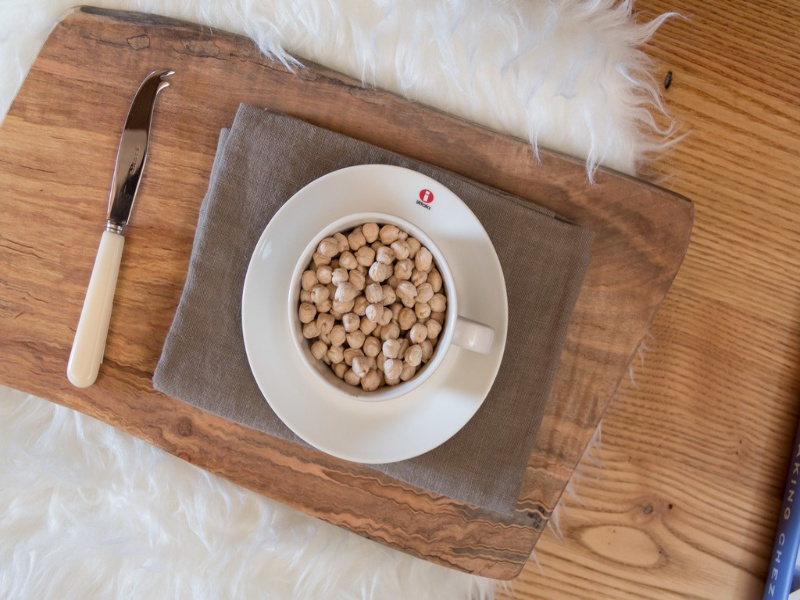knife: (60, 65, 175, 395)
